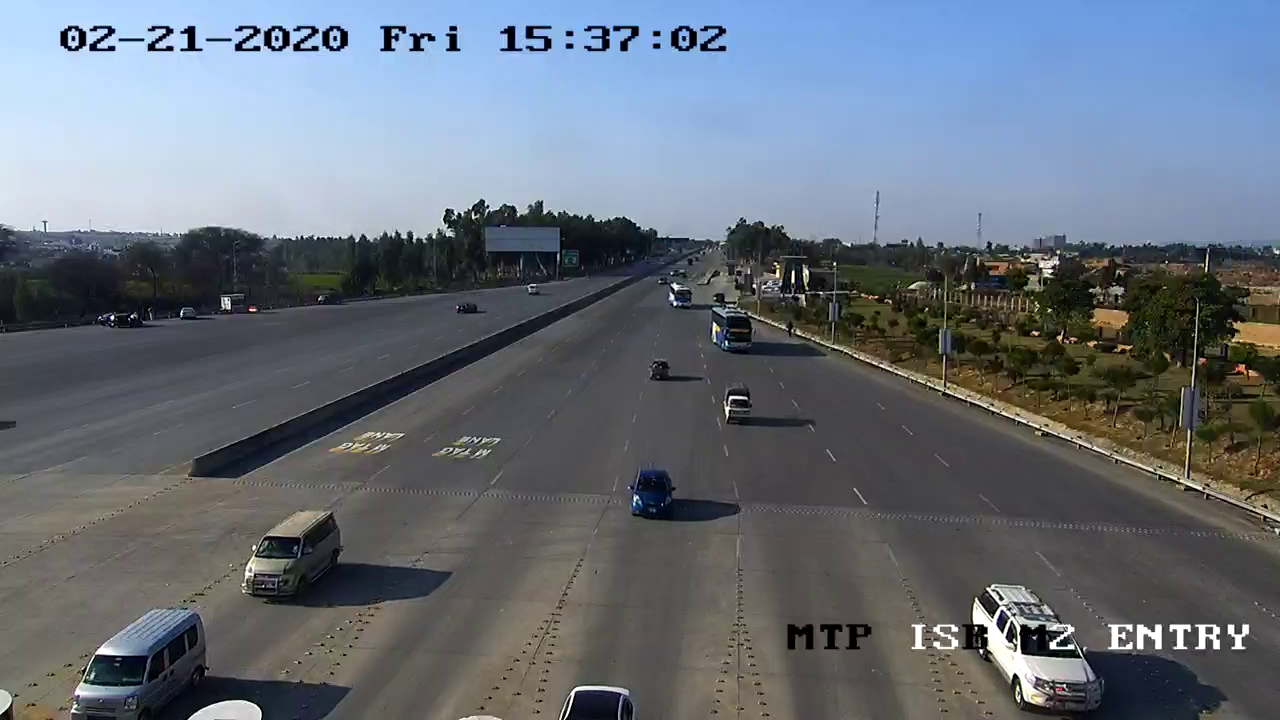f1: (55, 592, 215, 720), (229, 501, 346, 606), (620, 461, 686, 535), (712, 378, 760, 432)
